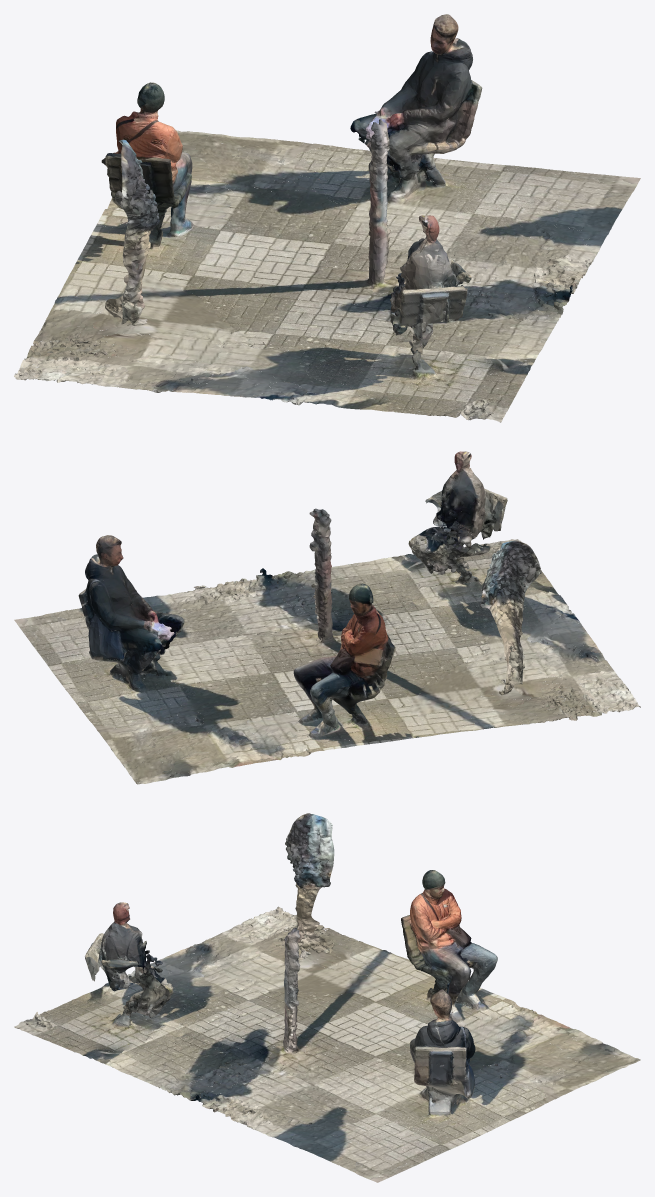
File: S010_SpinningChairs.glb
3 renders of one model, top to bottom at view 1: azimuth 30°, elevation 25°; view 2: azimuth 150°, elevation 25°; view 3: azimuth 270°, elevation 25°, orthographic. The views are drawn at different scales.
Parts seen in each view (by area): view 1: Object_4; view 2: Object_4; view 3: Object_4.
Boxes of the visible parts, x1,y1,x2,y2 form: Object_4: (14, 14, 640, 422); Object_4: (14, 451, 640, 784); Object_4: (14, 813, 640, 1182).
Size of the model in its own units: 35.02 by 9.74 by 35.33.
1 material, 1 textured.
